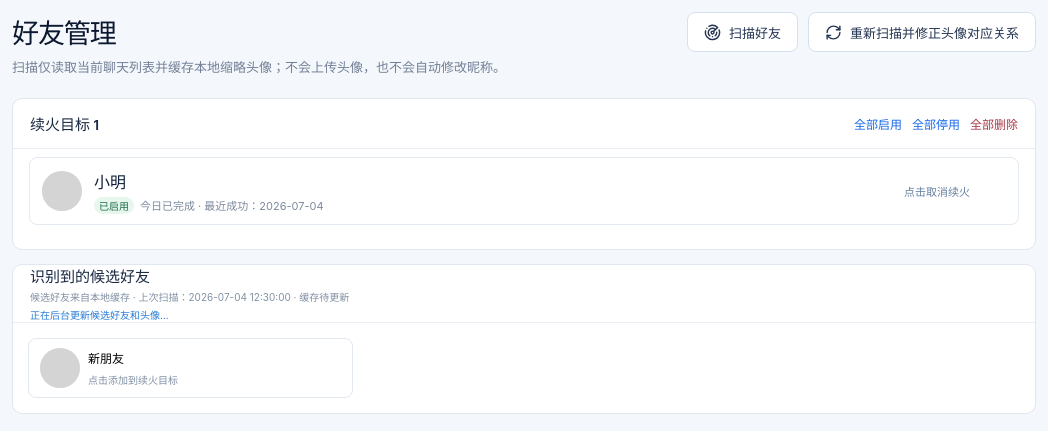
Test: cancels and immediately re-adds one continuation target without a manual refresh
The image size is (1048, 431).
Click the button "取消续火 小明" at coordinates (62, 191), box [29,157,1019,225]
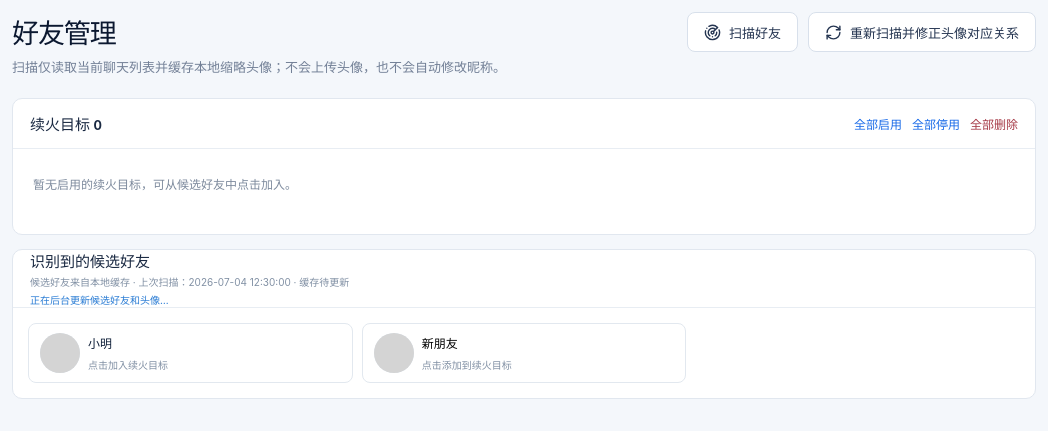
Click the button with aria-label "加入续火 小明" at coordinates (60, 353), box [28,323,353,383]
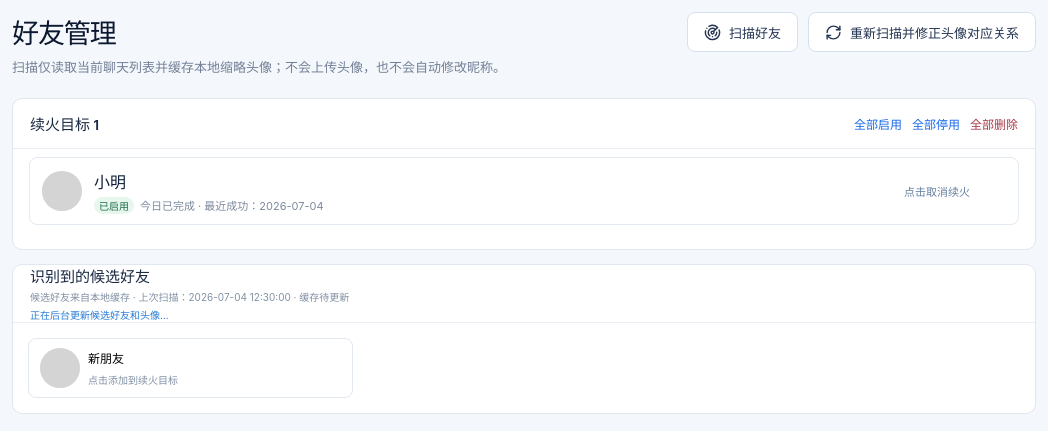
Result: the button "取消续火 小明" is shown at [29,157,1019,225]
